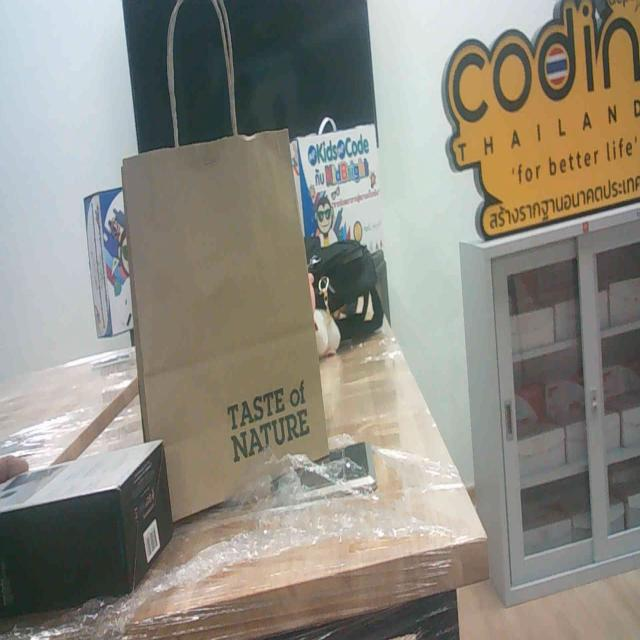bag: (133, 149, 337, 470)
